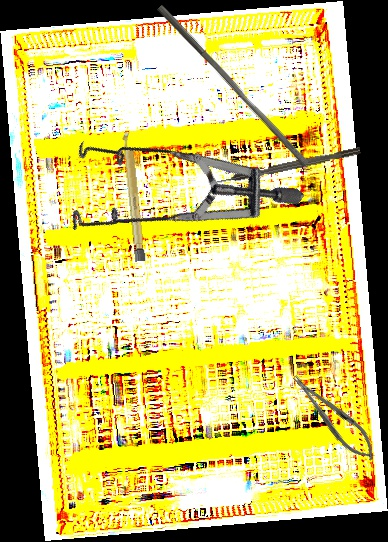Hook Surgical: (208, 147, 362, 187)
Needle Holder: (284, 366, 384, 468)
Pusher: (150, 4, 315, 168)
Scalpel Handle: (121, 131, 147, 262)
Speculum: (37, 70, 306, 328)
